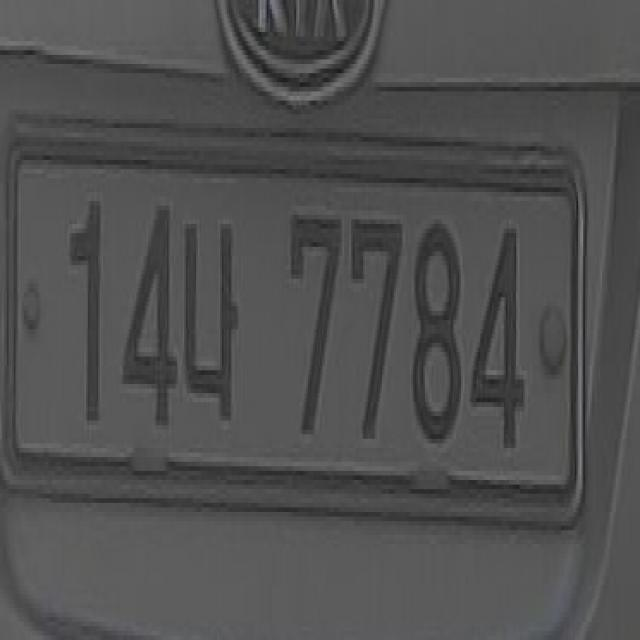1: (58, 183, 115, 448)
4: (466, 206, 539, 471), (119, 192, 182, 443)
7: (280, 187, 351, 448), (349, 206, 411, 448)
8: (409, 215, 468, 448)
license_plate: (1, 96, 586, 539)
na: (186, 206, 248, 448)
